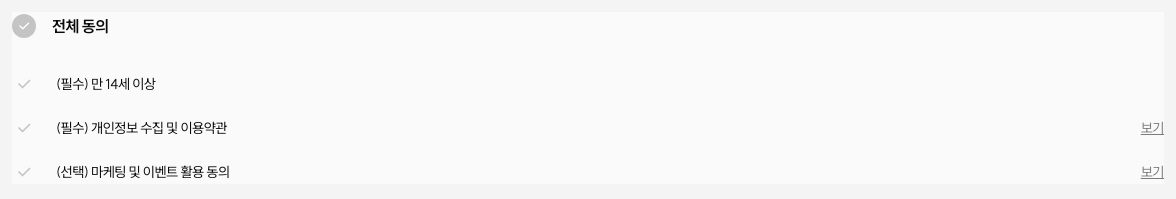
Agreement › 전체 동의 버튼 클릭 후 다시 클릭하면 모든 항목이 해제된다
Click the button "전체 동의": [80, 26] box top-left (12, 12), bottom-right (1164, 40)
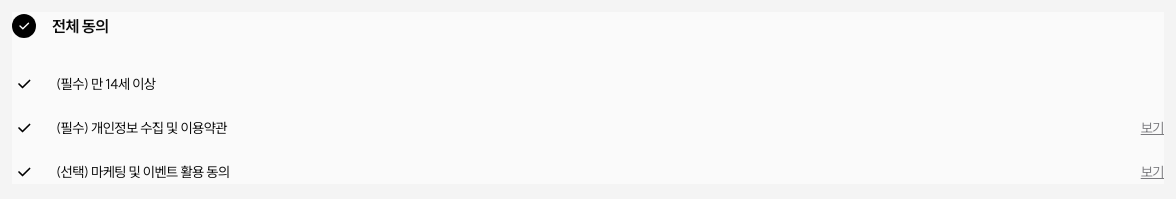
Now the 1st checkbox is checked, box top-left (12, 14), bottom-right (36, 38)
Now the 2nd checkbox is checked, box top-left (14, 74), bottom-right (34, 94)
Now the 3rd checkbox is checked, box top-left (14, 118), bottom-right (34, 138)
Click the button "전체 동의": [80, 26] box top-left (12, 12), bottom-right (1164, 40)
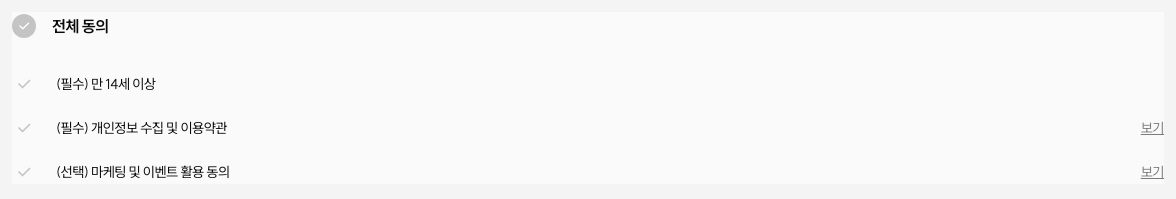
Now the 1st checkbox is not checked, box top-left (12, 14), bottom-right (36, 38)
Now the 2nd checkbox is not checked, box top-left (14, 74), bottom-right (34, 94)
Now the 3rd checkbox is not checked, box top-left (14, 118), bottom-right (34, 138)
